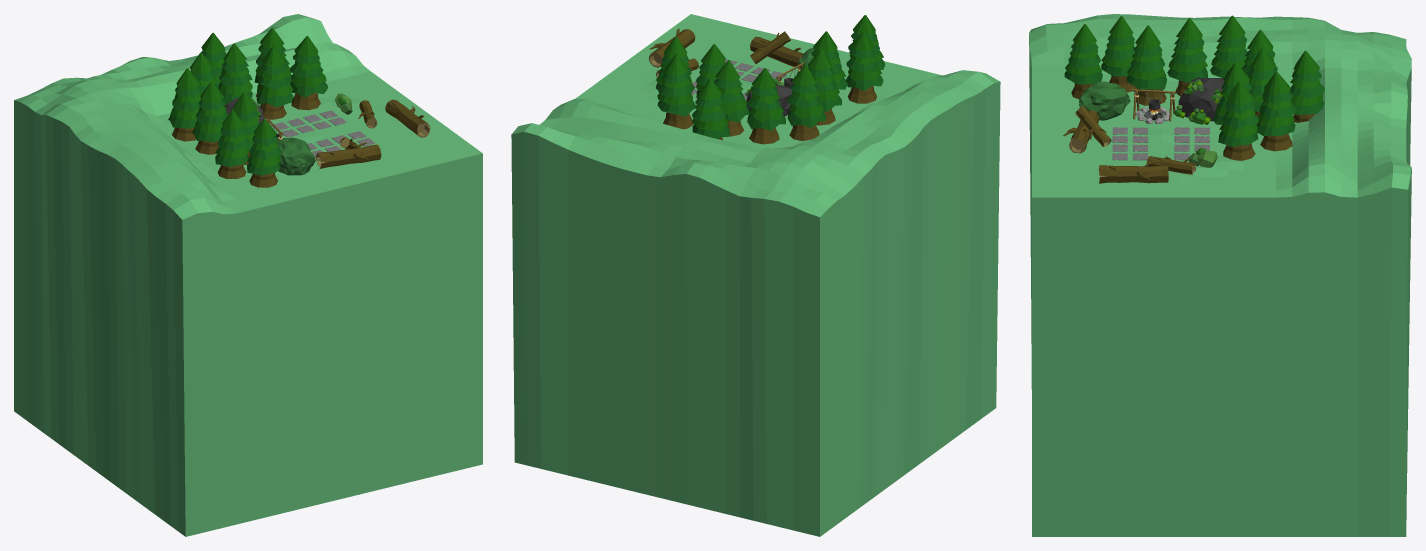
The model's file is Final Forest.fbx.
The picture shows the model from 3 angles, left to right: view 1: azimuth 30°, elevation 25°; view 2: azimuth 150°, elevation 25°; view 3: azimuth 270°, elevation 25°; orthographic projection. The views are drawn at different scales.
Visible parts, largest first — view 1: Cube.029; view 2: Cube.029; view 3: Cube.029.
Part boxes in pixels (bbox=[...]): Cube.029: bbox=[14, 14, 482, 536]; Cube.029: bbox=[511, 14, 1000, 536]; Cube.029: bbox=[1029, 14, 1411, 536].
Size of the model in its own units: 19.06 by 22.26 by 18.72.
